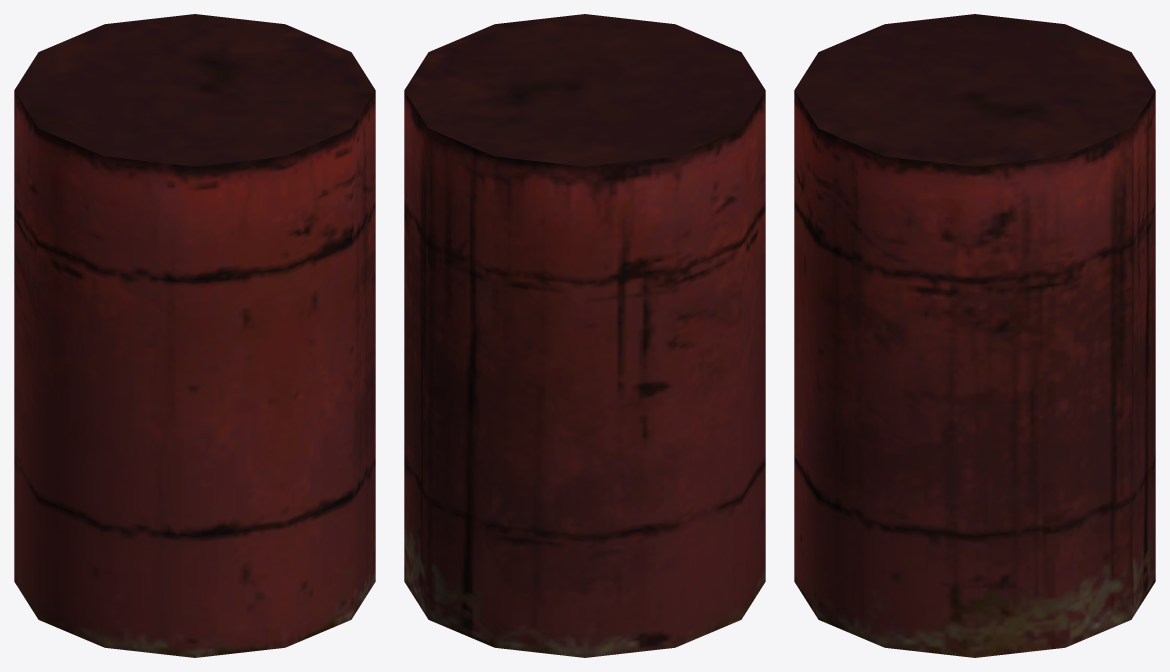
File: RedBarrel.obj
3 views of the same model, side by side, from view 1: azimuth 30°, elevation 25°; view 2: azimuth 150°, elevation 25°; view 3: azimuth 270°, elevation 25° (orthographic).
Bounding box in the file's own units: 1 × 1.5 × 1.
1 material, 1 textured.
